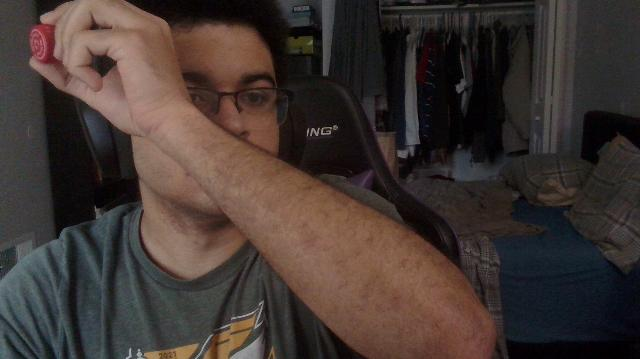cap: (30, 23, 56, 63)
